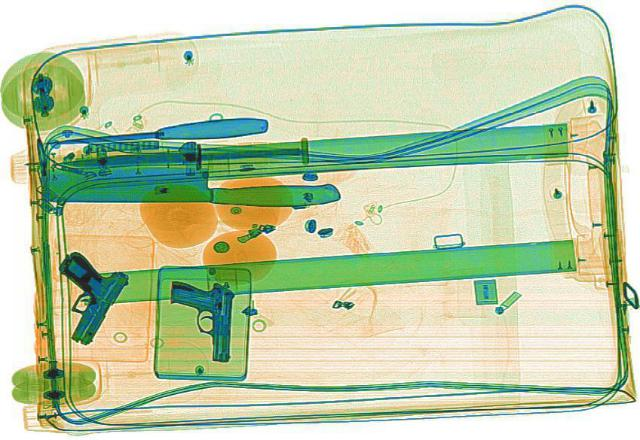Gun: (20, 247, 136, 344), (163, 280, 233, 361)
Knife: (39, 165, 339, 206), (39, 113, 268, 153), (55, 143, 298, 170)
